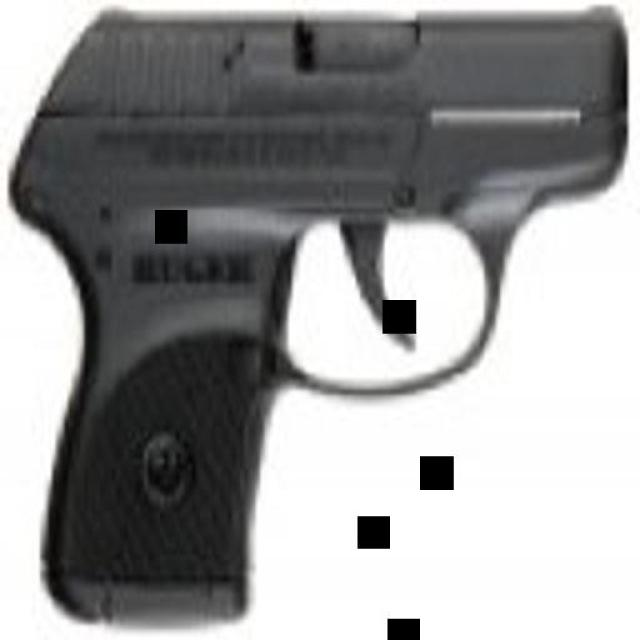gun: (10, 4, 619, 628)
